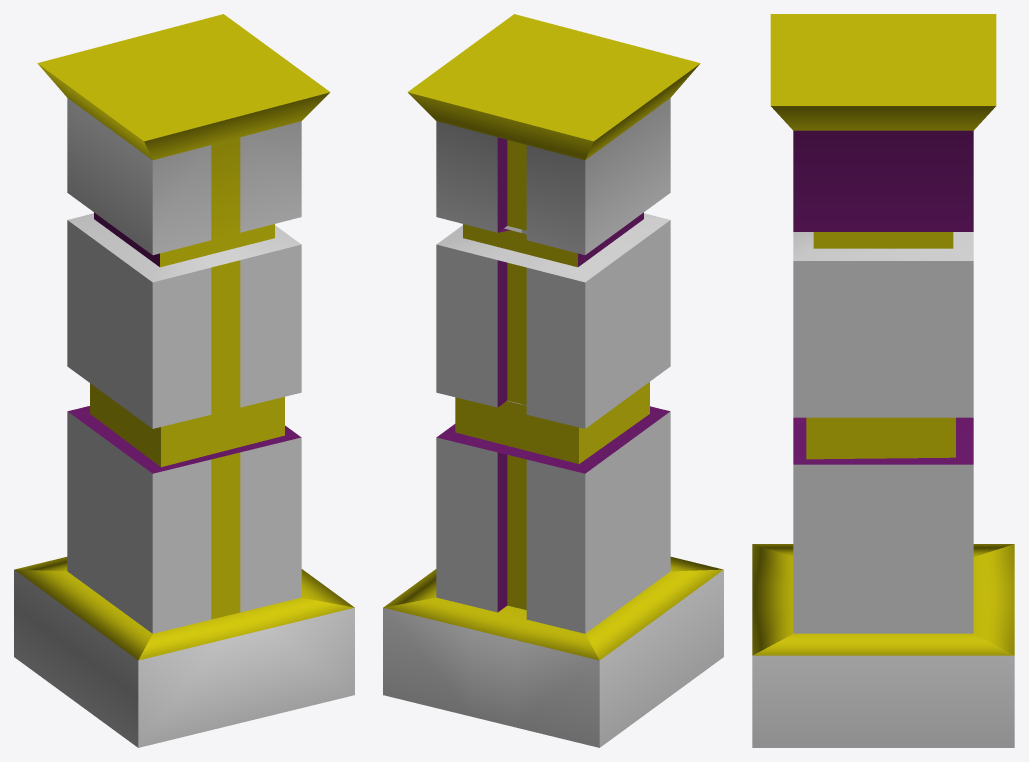
The model's file is pilar2.fbx.
3 renders of one model, left to right at view 1: azimuth 30°, elevation 25°; view 2: azimuth 150°, elevation 25°; view 3: azimuth 270°, elevation 25°, orthographic. The views are drawn at different scales.
Visible parts, largest first — view 1: pCube2; view 2: pCube2; view 3: pCube2.
Boxes of the visible parts, left/top/right/bottom form: pCube2: left=14, top=14, right=354, bottom=747; pCube2: left=383, top=14, right=723, bottom=747; pCube2: left=752, top=14, right=1014, bottom=747.
Size of the model in its own units: 3.06 by 8.1 by 3.04.
